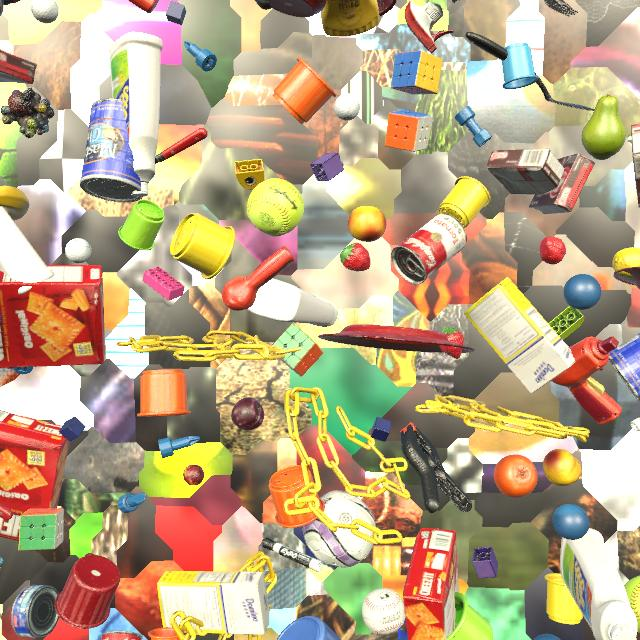ycb_002_master_chef_can: (80, 99, 143, 203), (609, 333, 640, 402), (0, 313, 1, 323)
ycb_003_cracker_box: (0, 265, 105, 368), (0, 410, 70, 541), (403, 528, 459, 640)
ycb_004_sugar_box: (463, 277, 575, 394), (157, 571, 270, 635)
ycb_005_tomato_soup_can: (391, 213, 467, 285), (101, 631, 143, 640)
ycb_006_mustard_bottle: (320, 0, 379, 37)
ycb_007_tuna_fish_can: (11, 585, 59, 638)
ycb_008_pudding_box: (529, 153, 595, 214), (486, 149, 564, 195), (0, 50, 37, 84), (631, 123, 640, 208)
ycb_011_banana: (0, 186, 29, 221)
ycb_012_strawberry: (340, 243, 370, 271), (439, 327, 464, 359), (540, 237, 566, 265)
ycb_014_lemon: (612, 247, 640, 279)
ycb_015_peach: (543, 449, 581, 486), (348, 206, 387, 242)
ycb_016_pear: (581, 94, 626, 160)
ycb_017_orange: (494, 455, 538, 498)
ycb_018_plum: (231, 397, 264, 431)
